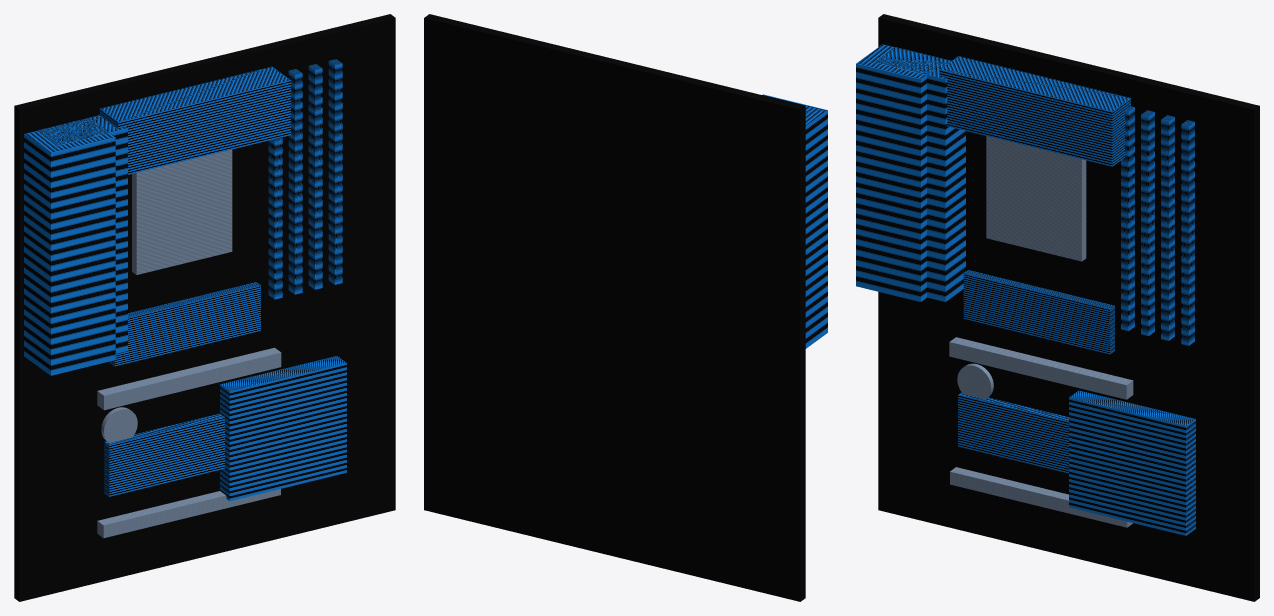
File: asus-rog-crosshair-x870e.glb
The picture shows the model from 3 angles, left to right: view 1: azimuth 30°, elevation 25°; view 2: azimuth 150°, elevation 25°; view 3: azimuth 330°, elevation 25°; orthographic projection.
Parts seen in each view (by area): view 1: MotherboardPCB, IoRearShroud, ChipsetHeatsink, VrmTopHeatsink, CpuSocketILM, M2ArmorPlate1, M2ArmorPlate2, VrmLeftHeatsink, PcieSlotPrimary, DimmSlot_0.81, DimmSlot_0.68, DimmSlot_0.55 (+3 smaller); view 2: MotherboardPCB, IoRearShroud; view 3: MotherboardPCB, IoRearShroud, ChipsetHeatsink, VrmTopHeatsink, CpuSocketILM, VrmLeftHeatsink, M2ArmorPlate1, M2ArmorPlate2, PcieSlotPrimary, DimmSlot_0.55, DimmSlot_0.68, DimmSlot_0.81 (+3 smaller).
Boxes of the visible parts, <box> form: MotherboardPCB: <box>14,14,395,601</box>; IoRearShroud: <box>24,118,115,375</box>; ChipsetHeatsink: <box>220,356,346,501</box>; VrmTopHeatsink: <box>99,66,290,174</box>; CpuSocketILM: <box>132,149,232,274</box>; M2ArmorPlate1: <box>109,282,260,366</box>; M2ArmorPlate2: <box>104,413,224,496</box>; VrmLeftHeatsink: <box>37,115,127,353</box>; PcieSlotPrimary: <box>97,347,281,410</box>; DimmSlot_0.81: <box>328,59,342,284</box>; DimmSlot_0.68: <box>308,64,322,289</box>; DimmSlot_0.55: <box>288,69,302,294</box>; MotherboardPCB: <box>424,14,805,601</box>; IoRearShroud: <box>762,94,827,348</box>; MotherboardPCB: <box>878,14,1259,601</box>; IoRearShroud: <box>856,44,935,301</box>; ChipsetHeatsink: <box>1069,390,1195,535</box>; VrmTopHeatsink: <box>939,56,1130,166</box>; CpuSocketILM: <box>986,136,1086,261</box>; VrmLeftHeatsink: <box>875,47,965,301</box>; M2ArmorPlate1: <box>963,270,1114,354</box>; M2ArmorPlate2: <box>958,392,1068,473</box>; PcieSlotPrimary: <box>949,337,1133,399</box>; DimmSlot_0.55: <box>1141,110,1154,335</box>; DimmSlot_0.68: <box>1161,115,1174,340</box>; DimmSlot_0.81: <box>1181,120,1194,345</box>.
Size of the model in its own units: 2.44 by 3.05 by 0.36.
Materials: 3 (3 with a texture image).
